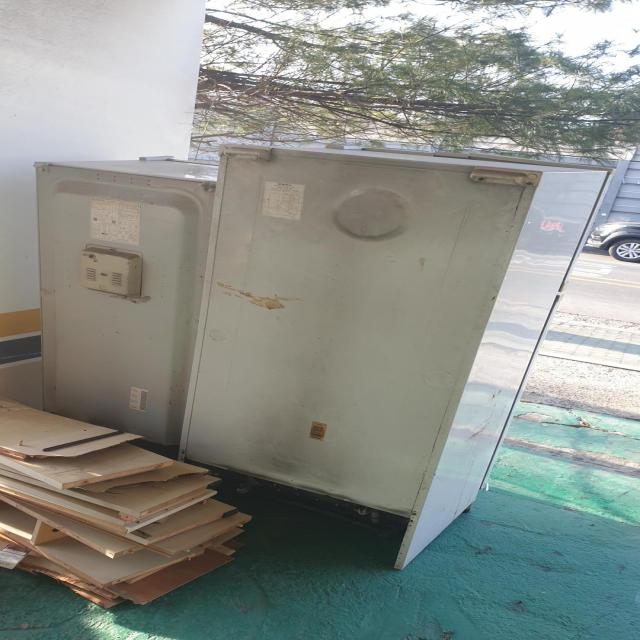refrigerator: (179, 143, 619, 570)
